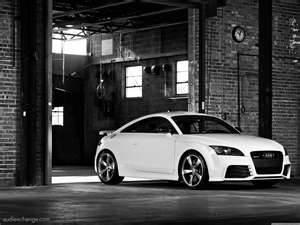car: (94, 111, 293, 192)
